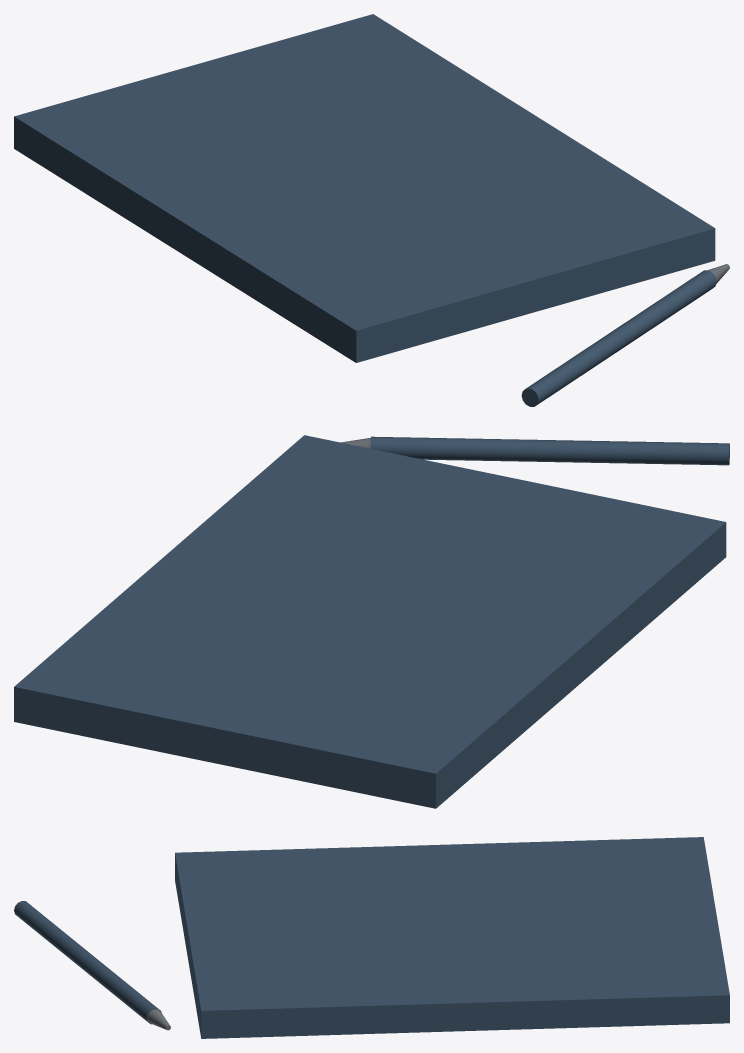
The model's file is LOC_SoGhiHang.glb.
3 renders of one model, top to bottom at view 1: azimuth 30°, elevation 25°; view 2: azimuth 150°, elevation 25°; view 3: azimuth 270°, elevation 25°, orthographic. The views are drawn at different scales.
Parts seen in each view (by area): view 1: So_BiaTren, So_Bia, BB_Than; view 2: So_BiaTren, So_Bia, BB_Than; view 3: So_BiaTren, So_Bia, BB_Than.
Boxes of the visible parts, bbox=[...] form: So_BiaTren: bbox=[14, 14, 715, 337]; So_Bia: bbox=[14, 121, 715, 362]; BB_Than: bbox=[521, 270, 716, 406]; So_BiaTren: bbox=[14, 435, 726, 780]; So_Bia: bbox=[14, 527, 726, 808]; BB_Than: bbox=[370, 436, 729, 465]; So_BiaTren: bbox=[175, 837, 729, 1016]; So_Bia: bbox=[175, 860, 729, 1038]; BB_Than: bbox=[14, 901, 161, 1024].
Size of the model in its own units: 0.1864 by 0.014 by 0.3242.
